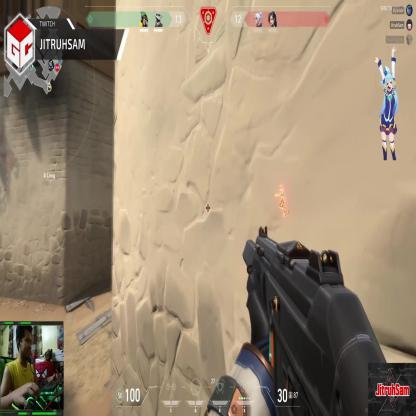enemy: (275, 183, 288, 217)
enemy_head: (278, 185, 282, 192)
